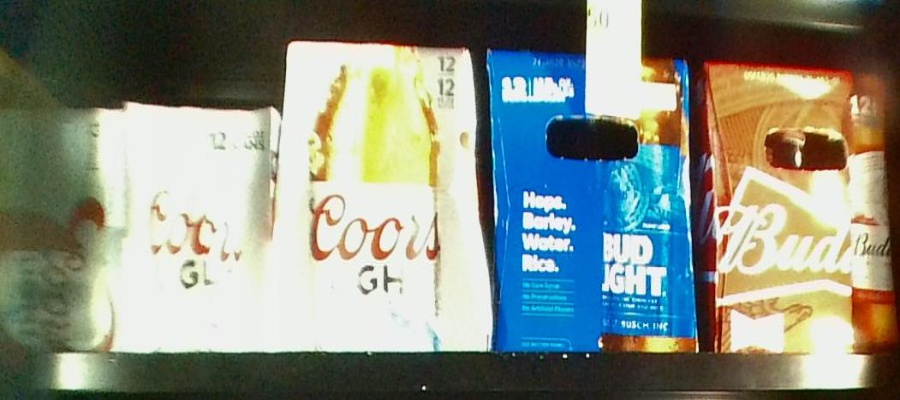bottle: (487, 46, 700, 360), (284, 40, 486, 353), (701, 59, 899, 353), (120, 97, 275, 351), (1, 111, 113, 356)
